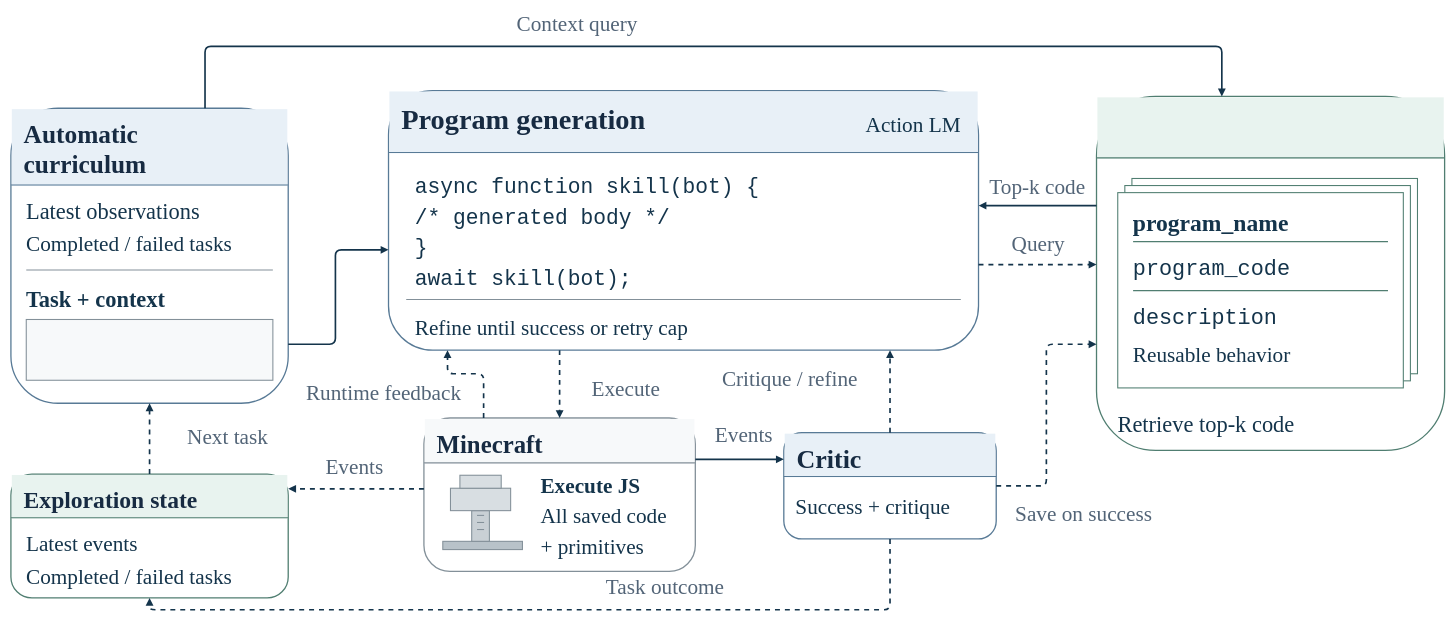
This 1456x625 diagram has some shape labels left out. Here are the shapes that lost their labels. From the top down, the centre of each, then its label:
(x=1270, y=127): Skill library
(x=149, y=349): Mine 1 wood log
